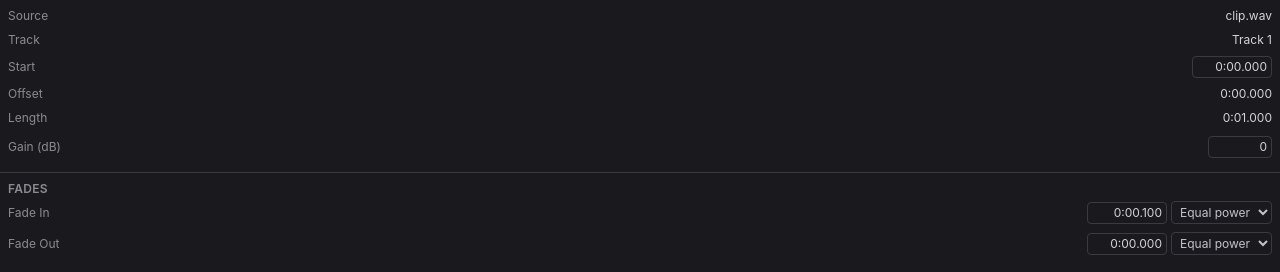
it: fade length inputs — bound to the store clamp, local-draft pattern › Escape reverts the draft and commits nothing
Replace the text in the field named "Fade in length" with "5" at (1127, 212), box top-left (1087, 202), bottom-right (1167, 224)
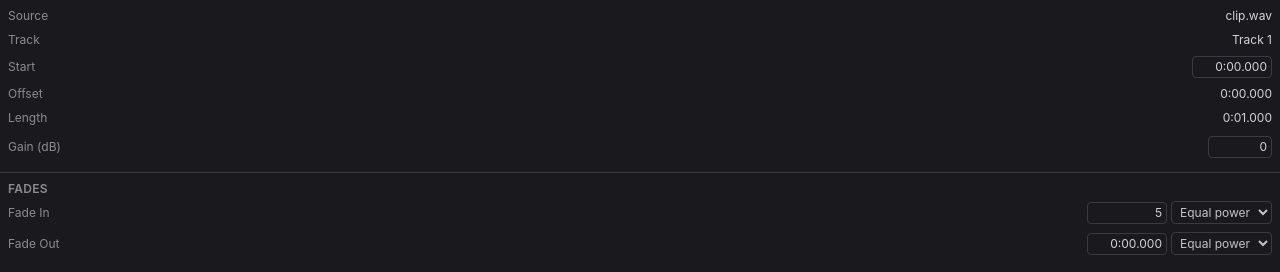
Press Escape in the field named "Fade in length", box top-left (1087, 202), bottom-right (1167, 224)
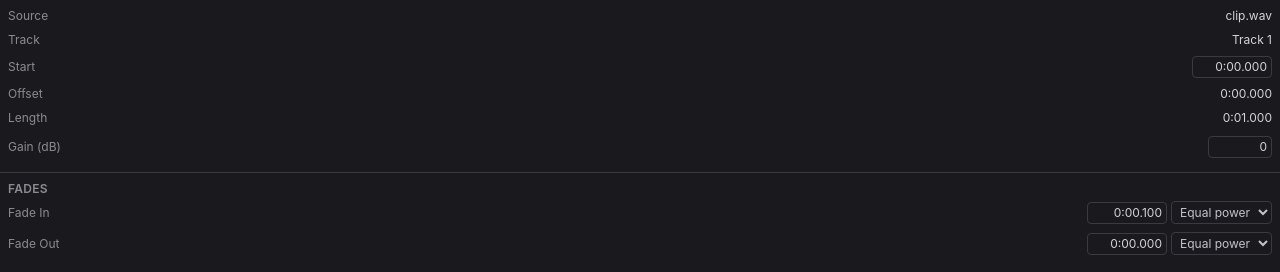
Result: the field named "Fade in length" holds "0:00.100" at top-left (1087, 202), bottom-right (1167, 224)
